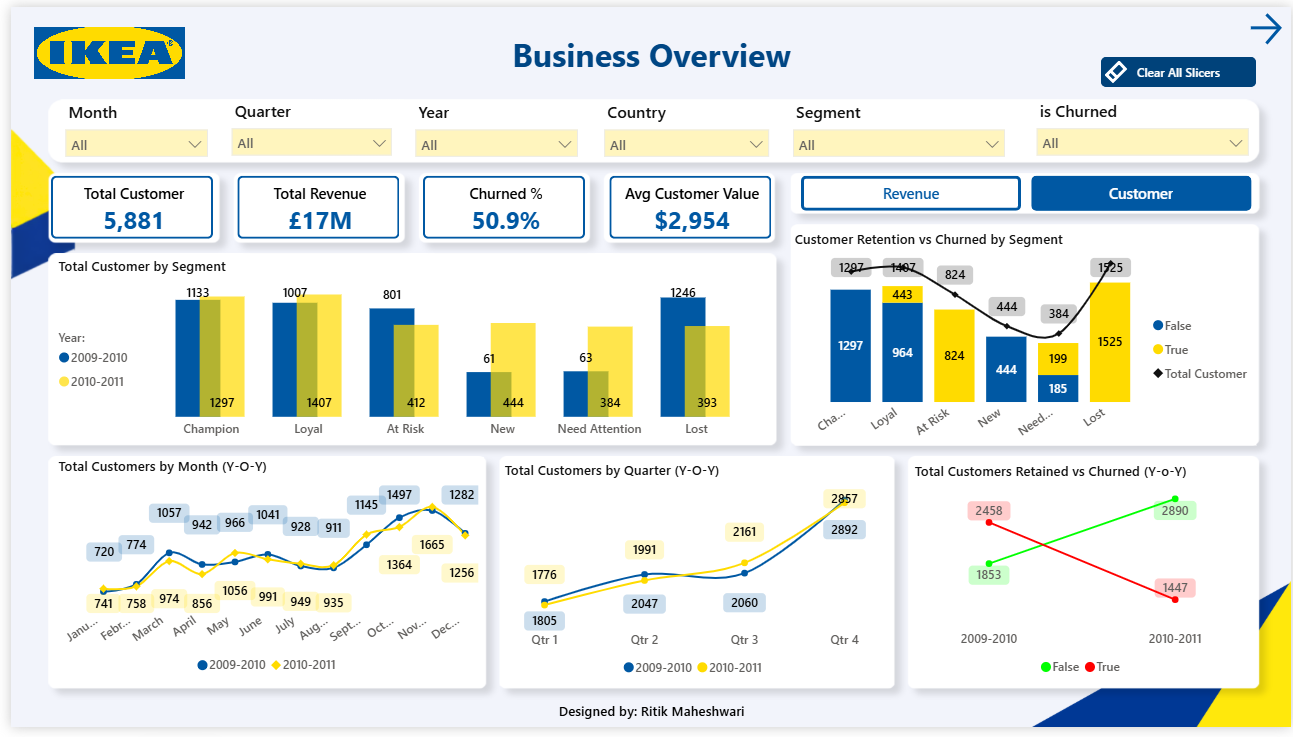

Layout of this report page (visuals, bound fields, positions):
{"tool":"powerbi","page":{"name":"Overview","canvas":[1280,720],"ordinal":0},"visuals":[{"type":"cardVisual","fields":{"Data":["Sheet1.Total Customer","Sheet1.Total Revenue","Sheet1.Churned Rate","Sheet1.Avg Customer Value"]},"box":[40,169,720,63],"z":0},{"type":"clusteredColumnChart","title":" Total Customer by Segment","fields":{"Category":["Segment_order.Segment Type"],"Y":["Sheet1.Total Customer"],"Series":["Sheet1.SourceSheet"]},"box":[42.6,249.5,717.5,185],"z":0,"group":"g1"},{"type":"slicer","fields":{"Values":["Sheet1.InvoiceDate.Variation.Date Hierarchy.Month"]},"box":[42.5,93.8,166.2,60],"z":1000},{"type":"lineStackedColumnComboChart","title":"Customer Retention vs Churned  by Segment","fields":{"Category":["Segment_order.Segment Type"],"Y":["Sheet1.Total Customer"],"Series":["Sheet1.isChurned"],"Y2":["Sheet1.Total Customer"]},"box":[783.4,222,461.4,215.7],"z":1000,"group":"g1"},{"type":"slicer","fields":{"Values":["Sheet1.SourceSheet"]},"box":[392.5,93.8,186.2,60],"z":2000},{"type":"lineChart","title":"Total Customers by Month  (Y-O-Y)","fields":{"Category":["Sheet1.InvoiceDate.Variation.Date Hierarchy.Month"],"Y":["Sheet1.Total Customer"],"Series":["Sheet1.SourceSheet"]},"box":[42.5,450,430,226.2],"z":2000,"group":"g1"},{"type":"slicer","fields":{"Values":["Sheet1.InvoiceDate.Variation.Date Hierarchy.Quarter"]},"box":[208.6,93,184.3,60],"z":3000},{"type":"lineChart","title":"Total Customers by Quarter (Y-O-Y)","fields":{"Category":["Sheet1.InvoiceDate.Variation.Date Hierarchy.Quarter"],"Y":["Sheet1.Total Customer"],"Series":["Sheet1.SourceSheet"]},"box":[488.9,453.2,390,225],"z":3000,"group":"g1"},{"type":"slicer","fields":{"Values":["Sheet1.Country"]},"box":[581.2,93.8,188.8,60],"z":4000},{"type":"lineChart","title":"Total Customers Retained vs Churned (Y-o-Y)","fields":{"Y":["Sheet1.Total Customer"],"Series":["Sheet1.isChurned"],"Category":["YearOrder.Year"]},"box":[899.4,454.3,345.1,223.1],"z":4000,"group":"g1"},{"type":"slicer","title":"Segment","fields":{"Values":["Sheet1.Customer_Value"]},"box":[770,93.8,236,60],"z":5000},{"type":"slicer","fields":{"Values":["Sheet1.isChurned"]},"box":[1013.8,93,236,60],"z":6000},{"type":"image","box":[0,19.7,196.4,52],"z":7000},{"type":"textbox","box":[464.6,20.8,351.3,59.2],"z":8000},{"type":"bookmarkNavigator","box":[790,169,450,35],"z":9000},{"type":"textbox","box":[535.6,690,208.8,30],"z":10000},{"type":"actionButton","box":[1233.8,1.2,46.2,41.2],"z":11000},{"type":"actionButton","box":[1090,50,155,30],"z":12000},{"type":"group","id":"g1","title":"Customer","box":[42.5,222,1202.4,456.2],"z":14000}]}

Visuals, with their boxes in screenshot pixels (x1, y1, x2, y2), scaled from the page's 1280x720 canvas onto the 1293x737 screenshot:
cardVisual - Sheet1.Total Customer x Sheet1.Total Revenue: pyautogui.locateOnScreen(40, 173, 768, 237)
" Total Customer by Segment" clusteredColumnChart: pyautogui.locateOnScreen(43, 255, 768, 445)
slicer - Sheet1.InvoiceDate.Variation.Date Hierarchy.Month: pyautogui.locateOnScreen(43, 96, 211, 157)
"Customer Retention vs Churned  by Segment" lineStackedColumnComboChart: pyautogui.locateOnScreen(791, 227, 1257, 448)
slicer - Sheet1.SourceSheet: pyautogui.locateOnScreen(396, 96, 585, 157)
"Total Customers by Month  (Y-O-Y)" lineChart: pyautogui.locateOnScreen(43, 461, 477, 692)
slicer - Sheet1.InvoiceDate.Variation.Date Hierarchy.Quarter: pyautogui.locateOnScreen(211, 95, 397, 157)
"Total Customers by Quarter (Y-O-Y)" lineChart: pyautogui.locateOnScreen(494, 464, 888, 694)
slicer - Sheet1.Country: pyautogui.locateOnScreen(587, 96, 778, 157)
"Total Customers Retained vs Churned (Y-o-Y)" lineChart: pyautogui.locateOnScreen(909, 465, 1257, 693)
"Segment" slicer: pyautogui.locateOnScreen(778, 96, 1016, 157)
slicer - Sheet1.isChurned: pyautogui.locateOnScreen(1024, 95, 1262, 157)
image: pyautogui.locateOnScreen(0, 20, 198, 73)
textbox: pyautogui.locateOnScreen(469, 21, 824, 82)
bookmarkNavigator: pyautogui.locateOnScreen(798, 173, 1253, 209)
textbox: pyautogui.locateOnScreen(541, 706, 752, 736)
actionButton: pyautogui.locateOnScreen(1246, 1, 1292, 43)
actionButton: pyautogui.locateOnScreen(1101, 51, 1258, 82)
"Customer" group: pyautogui.locateOnScreen(43, 227, 1258, 694)
